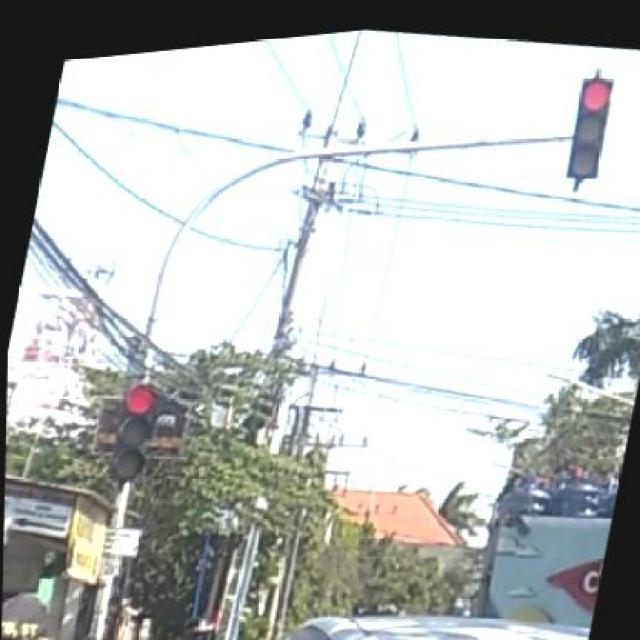red_light: (96, 382, 158, 480), (566, 74, 610, 189)
